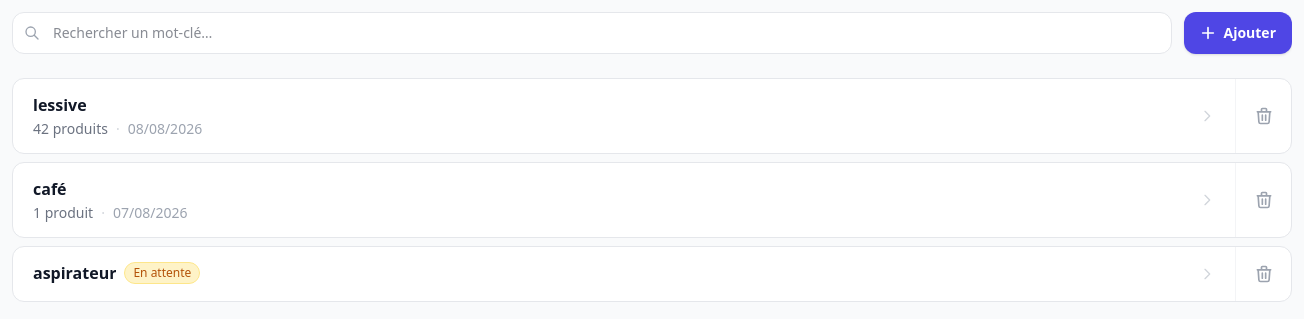
KeywordDashboard › recherche locale › explique une recherche sans résultat
Type "zzz" into the search field at (592, 33), box [12, 12, 1172, 54]
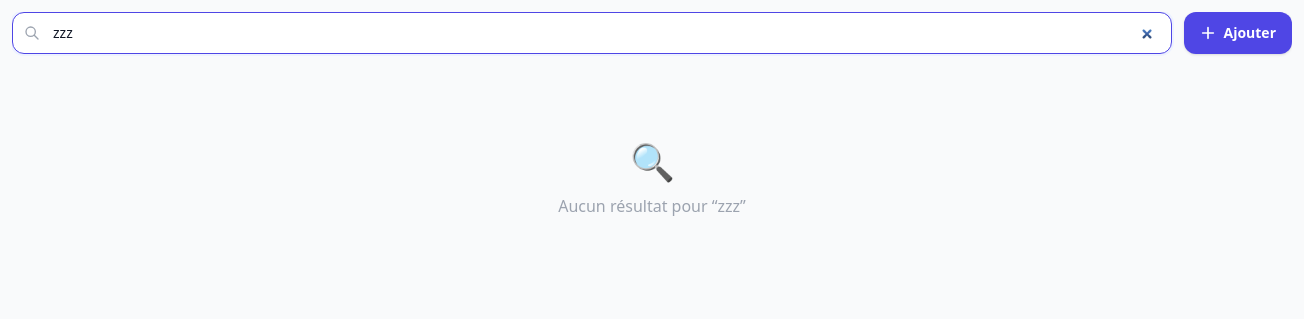
Expected: the text "Aucun résultat pour “zzz”" is shown, [558, 195, 746, 217]
